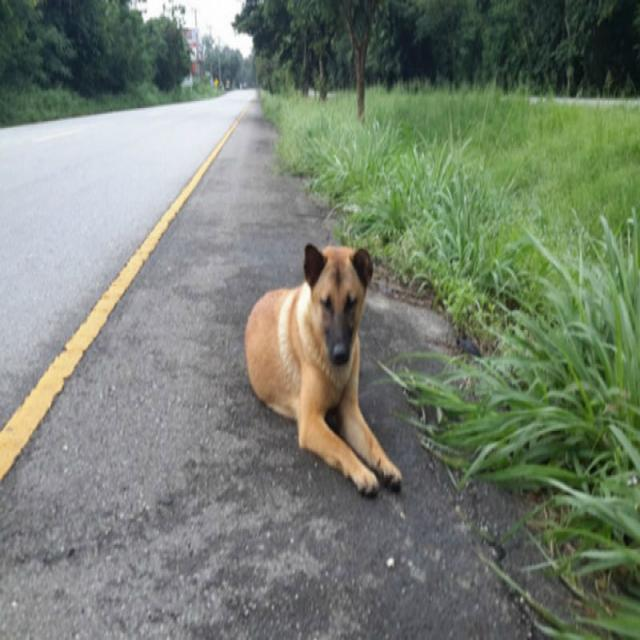dog: (245, 244, 402, 502)
